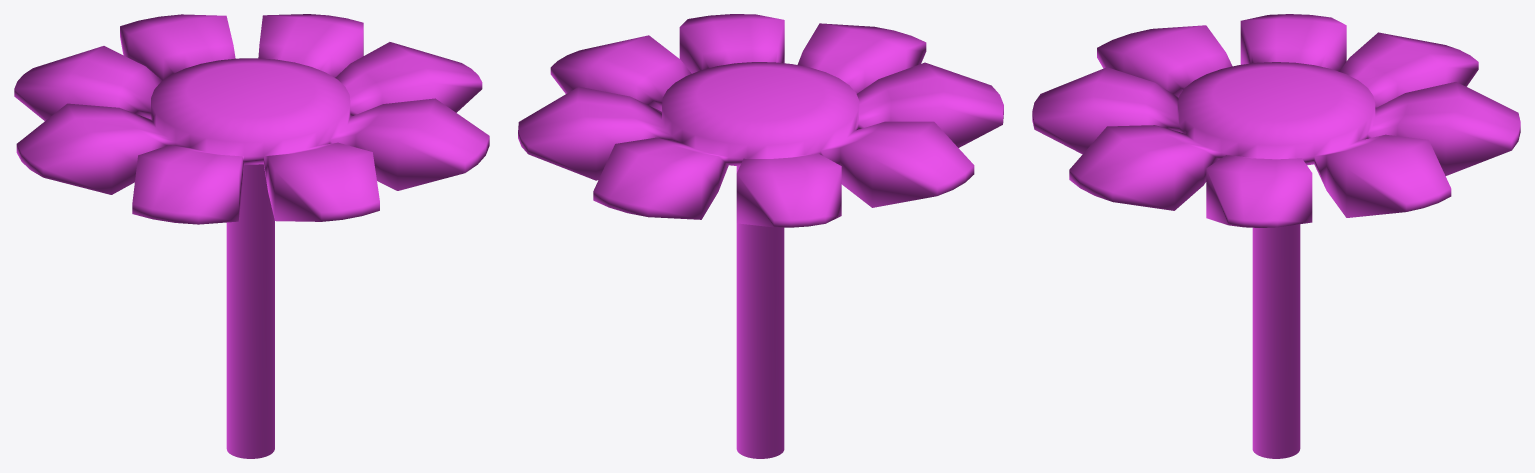
The model's file is flower.glb.
3 renders of one model, left to right at view 1: azimuth 30°, elevation 25°; view 2: azimuth 150°, elevation 25°; view 3: azimuth 270°, elevation 25°, orthographic.
Visible parts, largest first — view 1: cat; view 2: cat; view 3: cat.
Boxes of the visible parts, x1,y1,x2,y2 form: cat: [14, 14, 489, 458]; cat: [518, 14, 1003, 458]; cat: [1032, 14, 1520, 458].
Bounding box in the file's own units: 0.3819 × 0.3064 × 0.3826.
